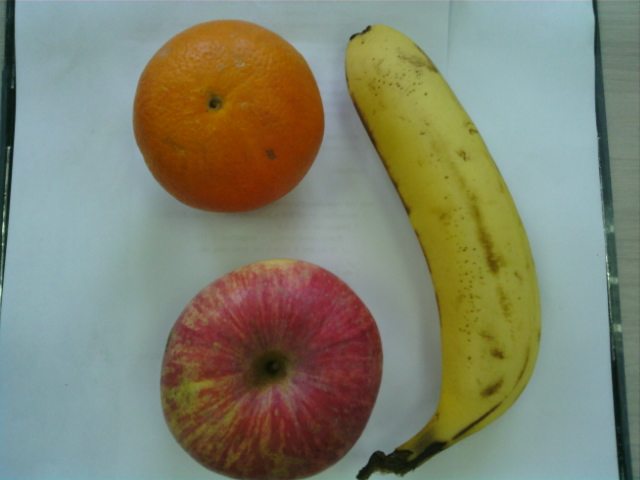normal_apple: (162, 256, 385, 480)
normal_banana: (345, 21, 546, 479)
normal_orange: (130, 20, 326, 215)
